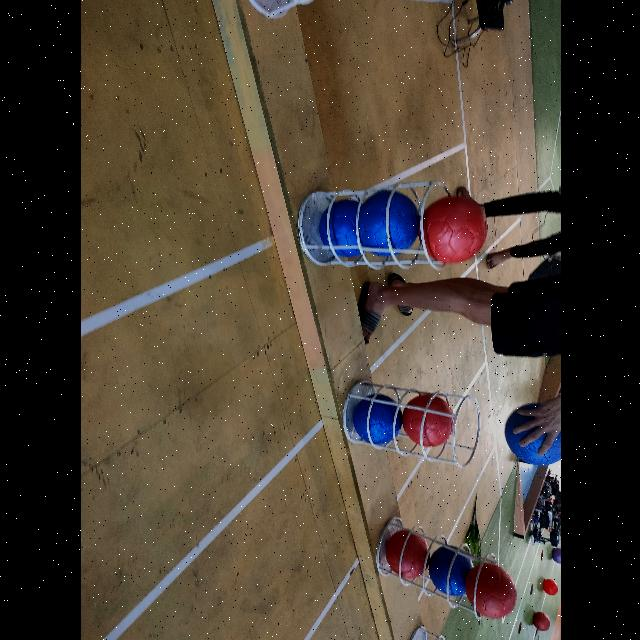B: (357, 190, 419, 258), (319, 198, 363, 260), (352, 394, 402, 448), (429, 544, 471, 598)
R: (421, 195, 494, 262), (402, 392, 453, 450), (465, 564, 517, 618), (382, 528, 430, 580)
